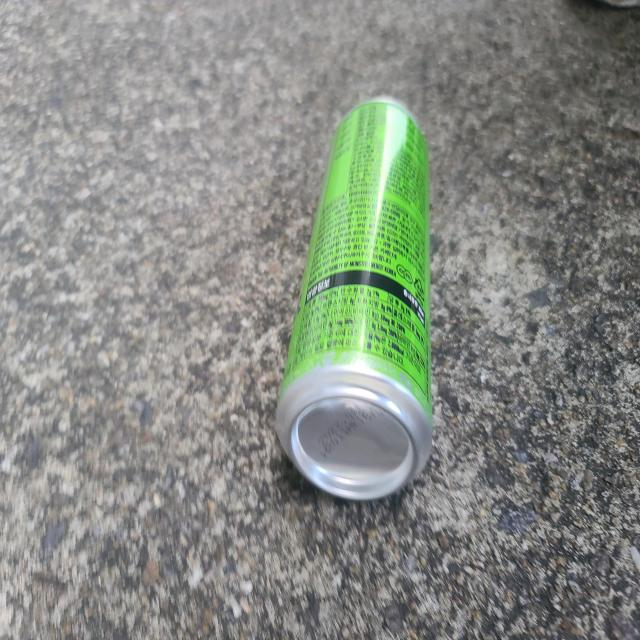can: (277, 97, 433, 500)
